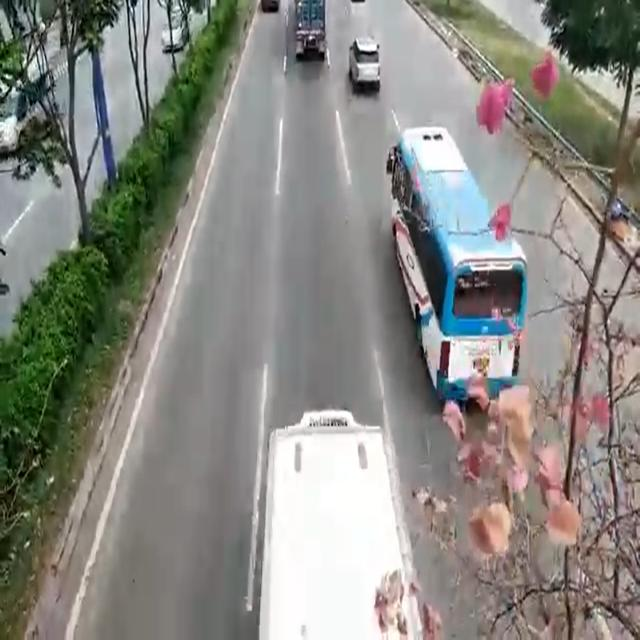bus: (387, 131, 517, 401)
car: (348, 34, 375, 94)
truck: (272, 425, 412, 640)
